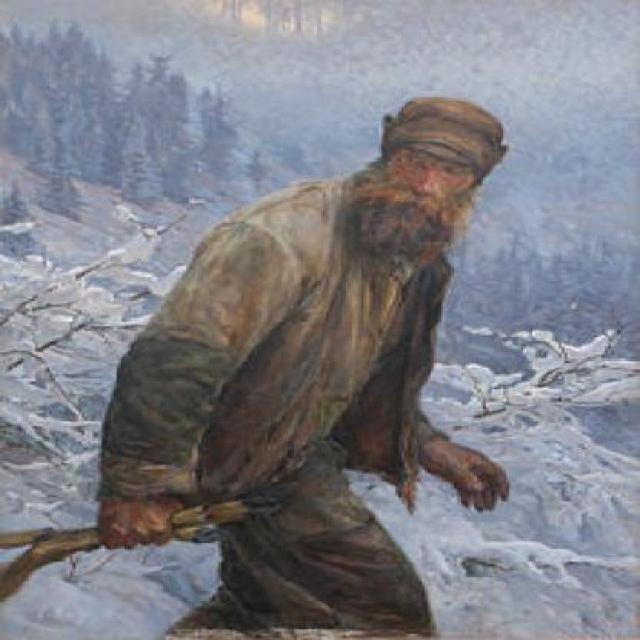p_robo: (8, 454, 284, 617)
poacher: (100, 69, 556, 629)
